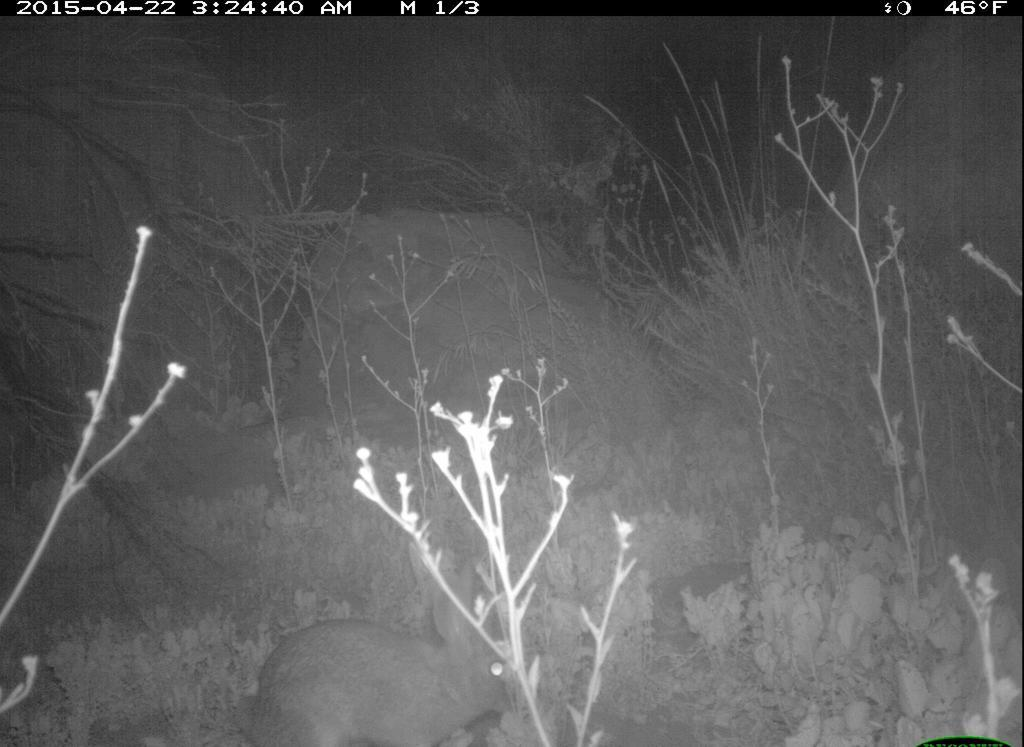rabbit: (226, 539, 518, 747)
